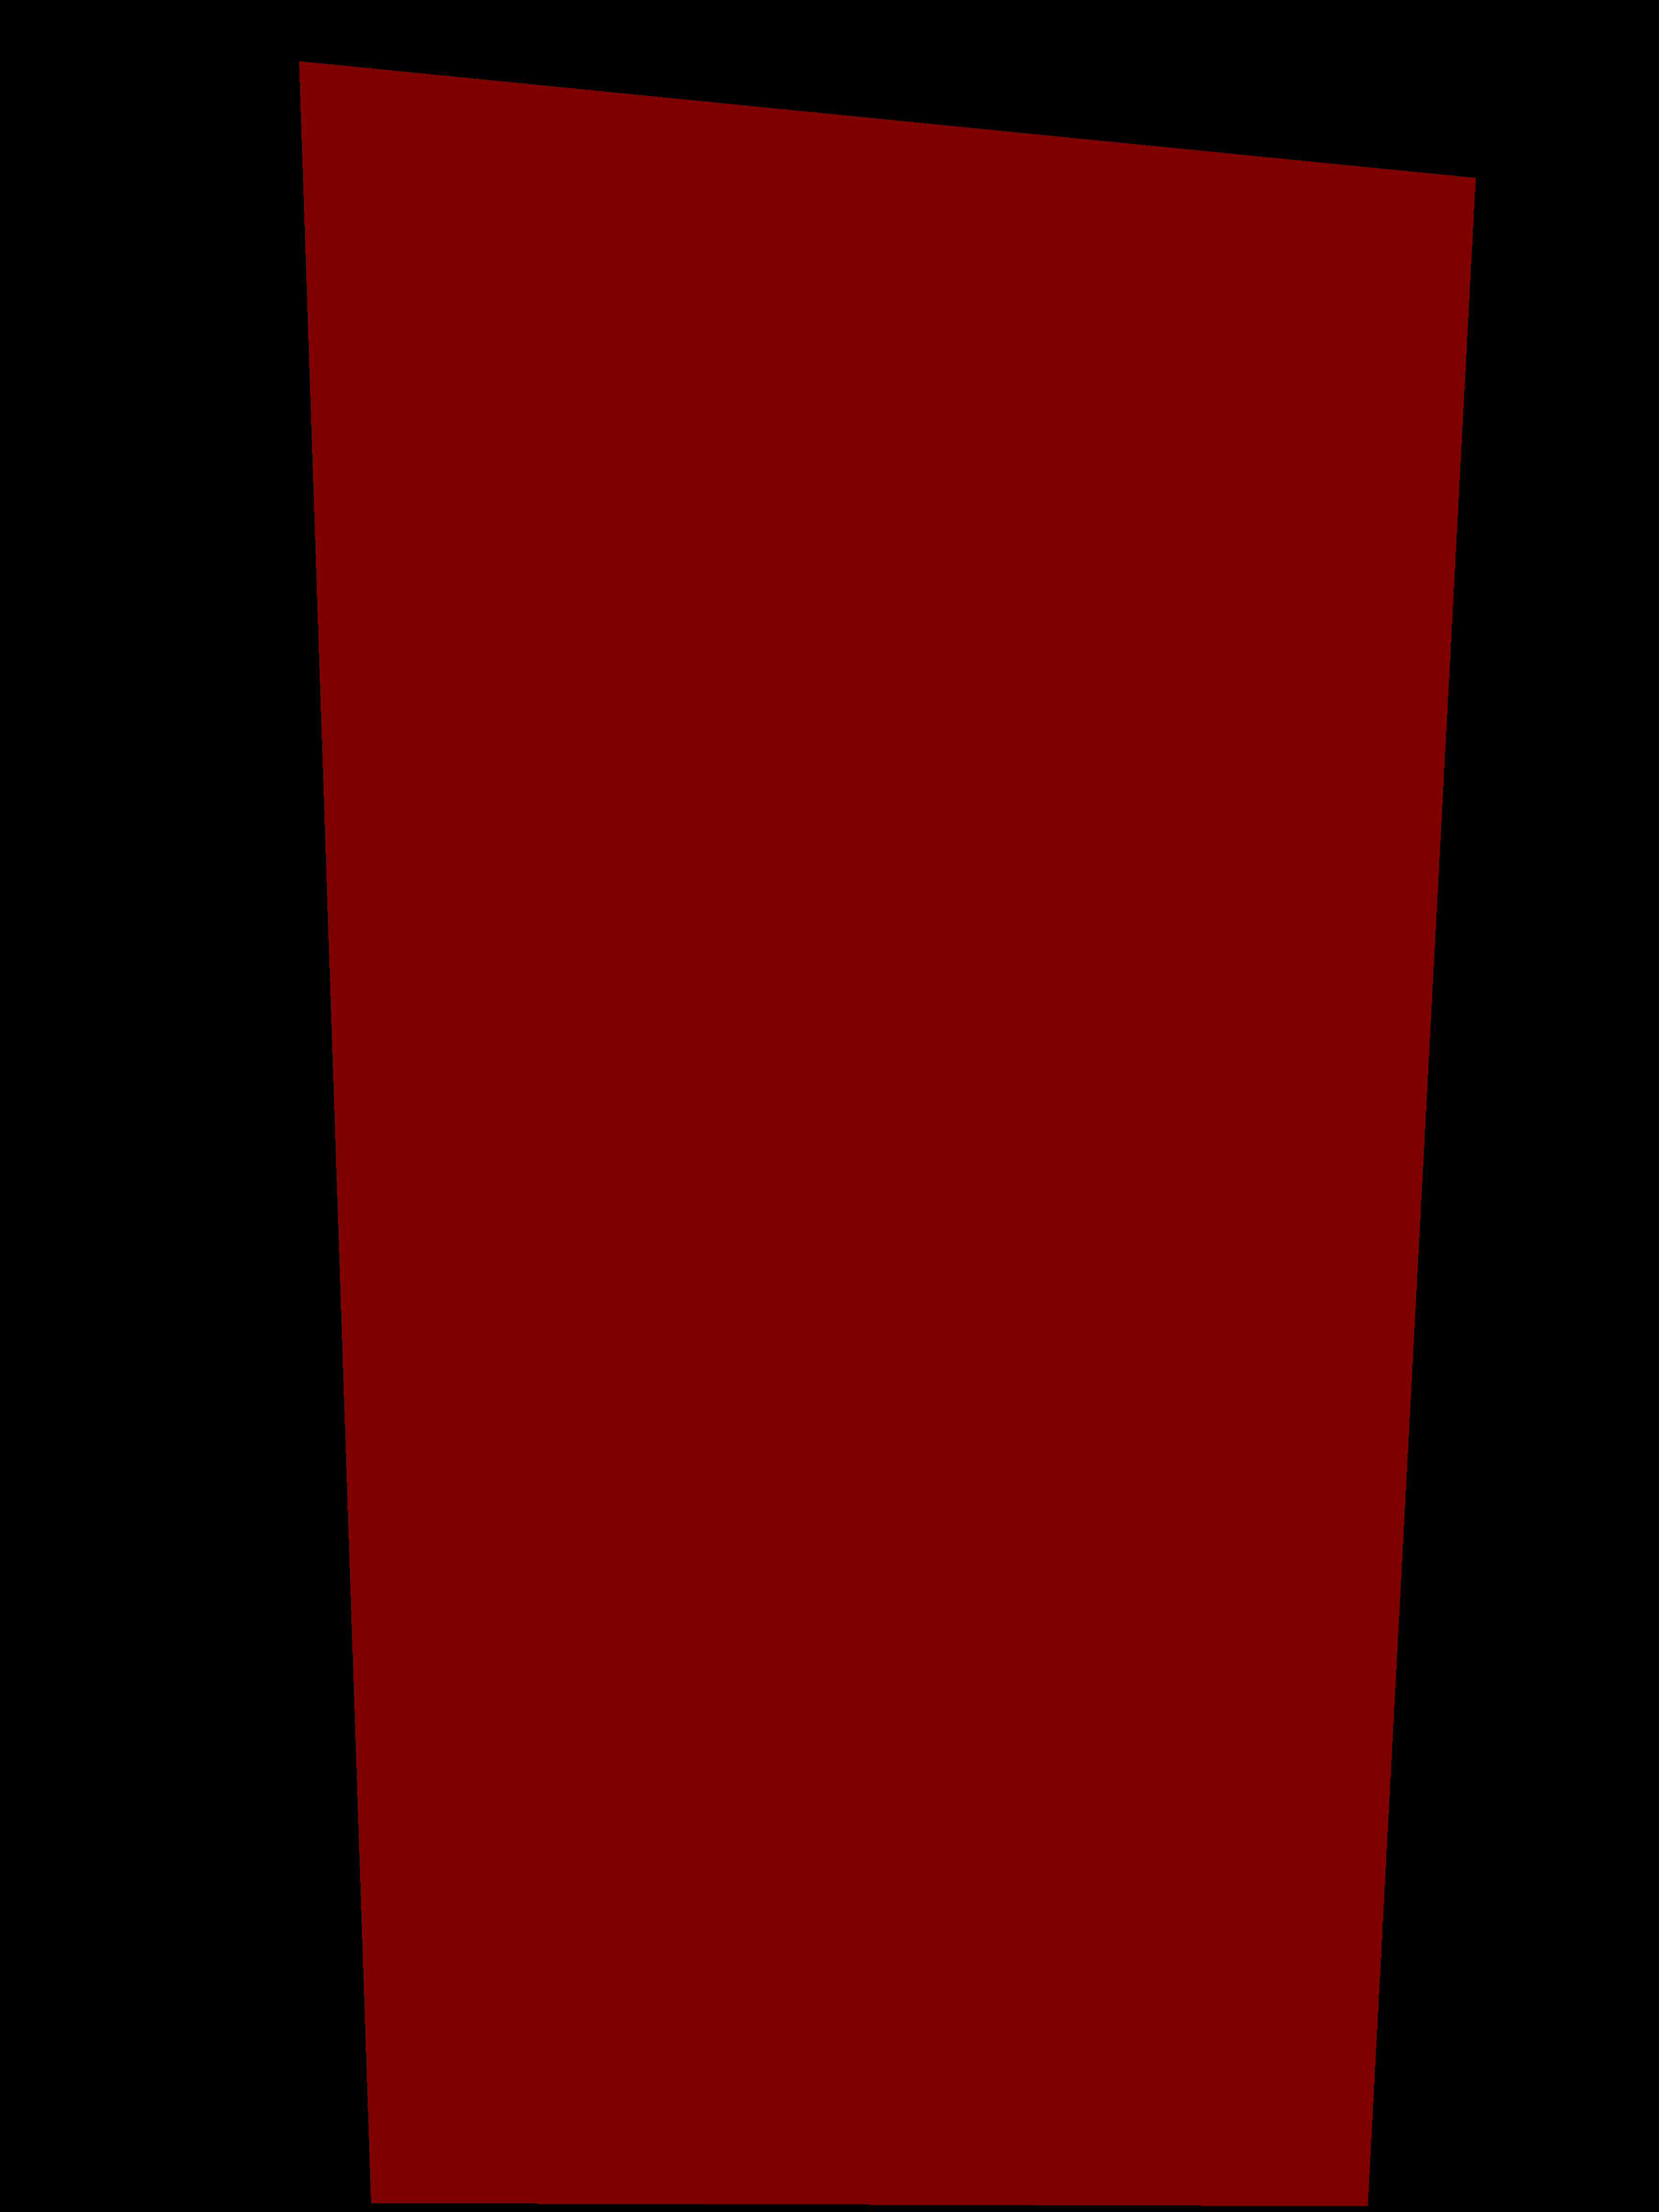door: (300, 61, 1474, 2205)
